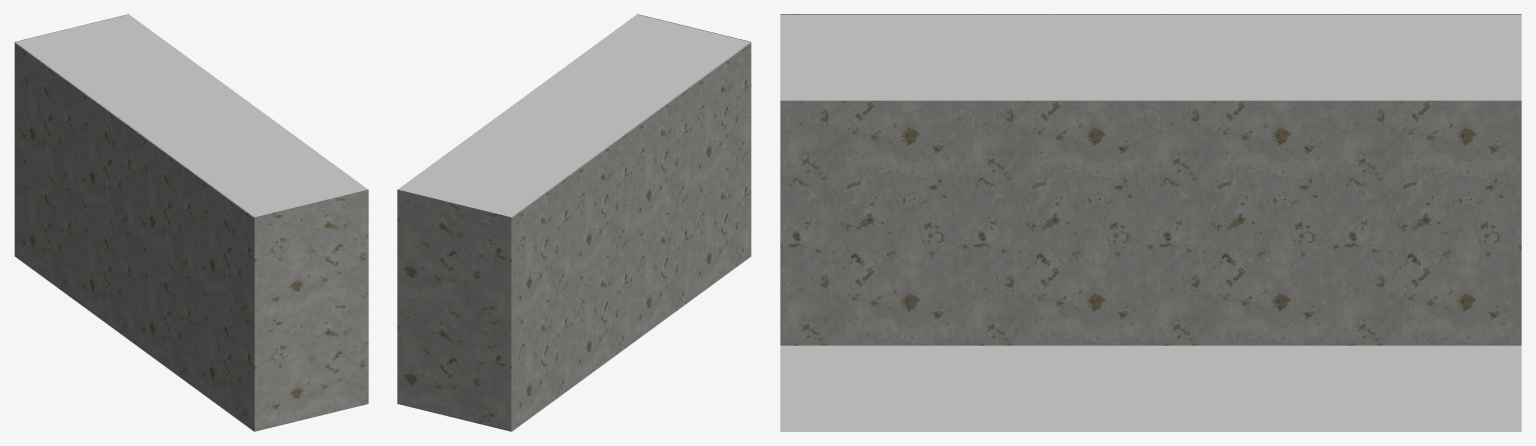
Rendered from factory_passage.fbx.
3 views of the same model, side by side, from view 1: azimuth 30°, elevation 25°; view 2: azimuth 150°, elevation 25°; view 3: azimuth 270°, elevation 25° (orthographic). The views are drawn at different scales.
Visible parts, largest first — view 1: wall4; view 2: wall4; view 3: wall4.
Part boxes in pixels (x1,y1,x2,y2): wall4: (14, 14, 368, 431); wall4: (397, 14, 751, 431); wall4: (780, 14, 1521, 431).
Size of the model in its own units: 153 by 273 by 553.
